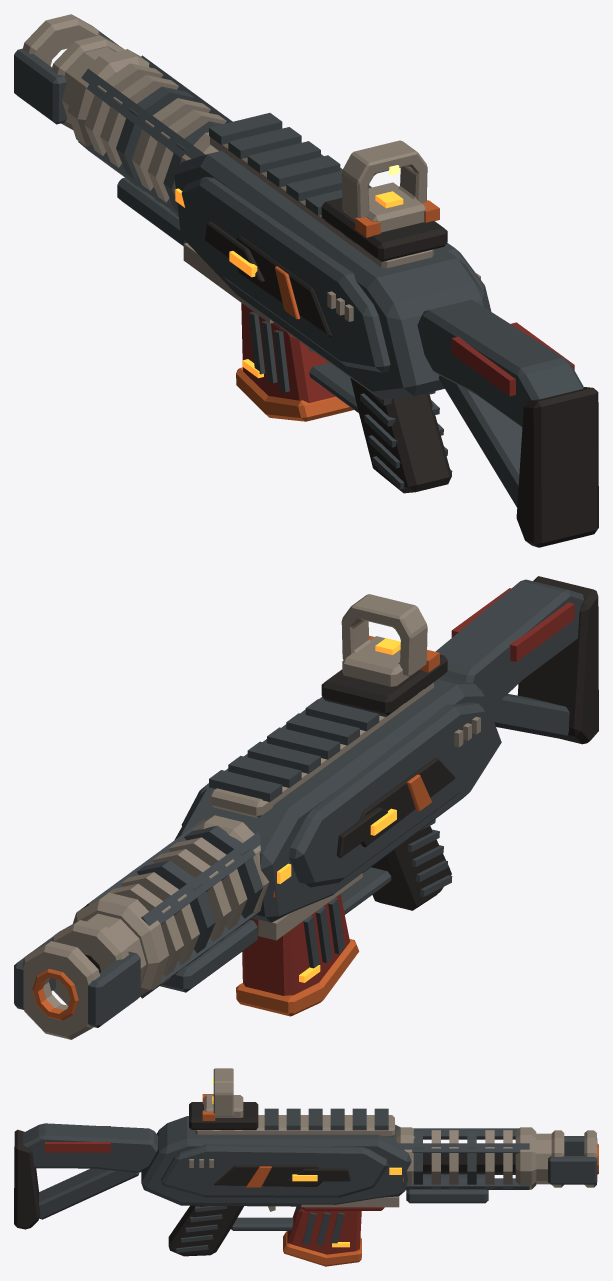
Rendered from cinder_carbine.glb.
3 views of the same model, one above another, from view 1: azimuth 30°, elevation 25°; view 2: azimuth 150°, elevation 25°; view 3: azimuth 270°, elevation 25° (orthographic). The views are drawn at different scales.
Parts seen in each view (by area): view 1: Upper and lower receiver | Geometry, Armored stock | Geometry, Vented barrel jacket | Geometry, Open reflex optic | Geometry, Grip and finger loop | Geometry, Angled magazine | Geometry, Forward muzzle | Geometry; view 2: Upper and lower receiver | Geometry, Vented barrel jacket | Geometry, Armored stock | Geometry, Forward muzzle | Geometry, Open reflex optic | Geometry, Angled magazine | Geometry, Grip and finger loop | Geometry; view 3: Upper and lower receiver | Geometry, Armored stock | Geometry, Vented barrel jacket | Geometry, Angled magazine | Geometry, Grip and finger loop | Geometry, Forward muzzle | Geometry, Open reflex optic | Geometry.
Part boxes in pixels (<box>): Upper and lower receiver | Geometry: <box>174,113,491,399</box>; Armored stock | Geometry: <box>417,299,598,547</box>; Vented barrel jacket | Geometry: <box>67,49,232,246</box>; Open reflex optic | Geometry: <box>321,140,447,261</box>; Grip and finger loop | Geometry: <box>309,348,452,493</box>; Angled magazine | Geometry: <box>236,303,353,421</box>; Forward muzzle | Geometry: <box>14,14,124,129</box>; Upper and lower receiver | Geometry: <box>174,676,501,940</box>; Vented barrel jacket | Geometry: <box>73,815,291,998</box>; Armored stock | Geometry: <box>435,576,598,744</box>; Forward muzzle | Geometry: <box>14,913,146,1039</box>; Open reflex optic | Geometry: <box>321,594,447,715</box>; Angled magazine | Geometry: <box>236,894,359,1016</box>; Grip and finger loop | Geometry: <box>340,819,452,914</box>; Upper and lower receiver | Geometry: <box>141,1108,411,1207</box>; Armored stock | Geometry: <box>14,1123,158,1229</box>; Vented barrel jacket | Geometry: <box>389,1127,536,1203</box>; Angled magazine | Geometry: <box>283,1207,384,1266</box>; Grip and finger loop | Geometry: <box>168,1205,300,1256</box>; Forward muzzle | Geometry: <box>536,1130,598,1187</box>; Open reflex optic | Geometry: <box>189,1068,258,1129</box>.
Bounding box in the file's own units: 0.14 × 0.3 × 0.86.
